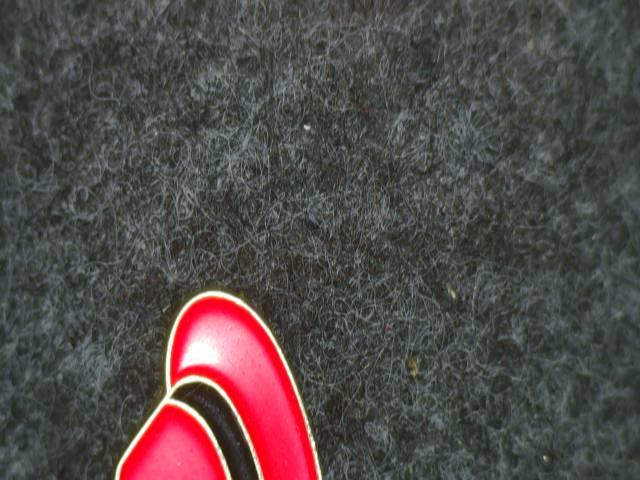Red-Hat: (88, 269, 351, 480)
